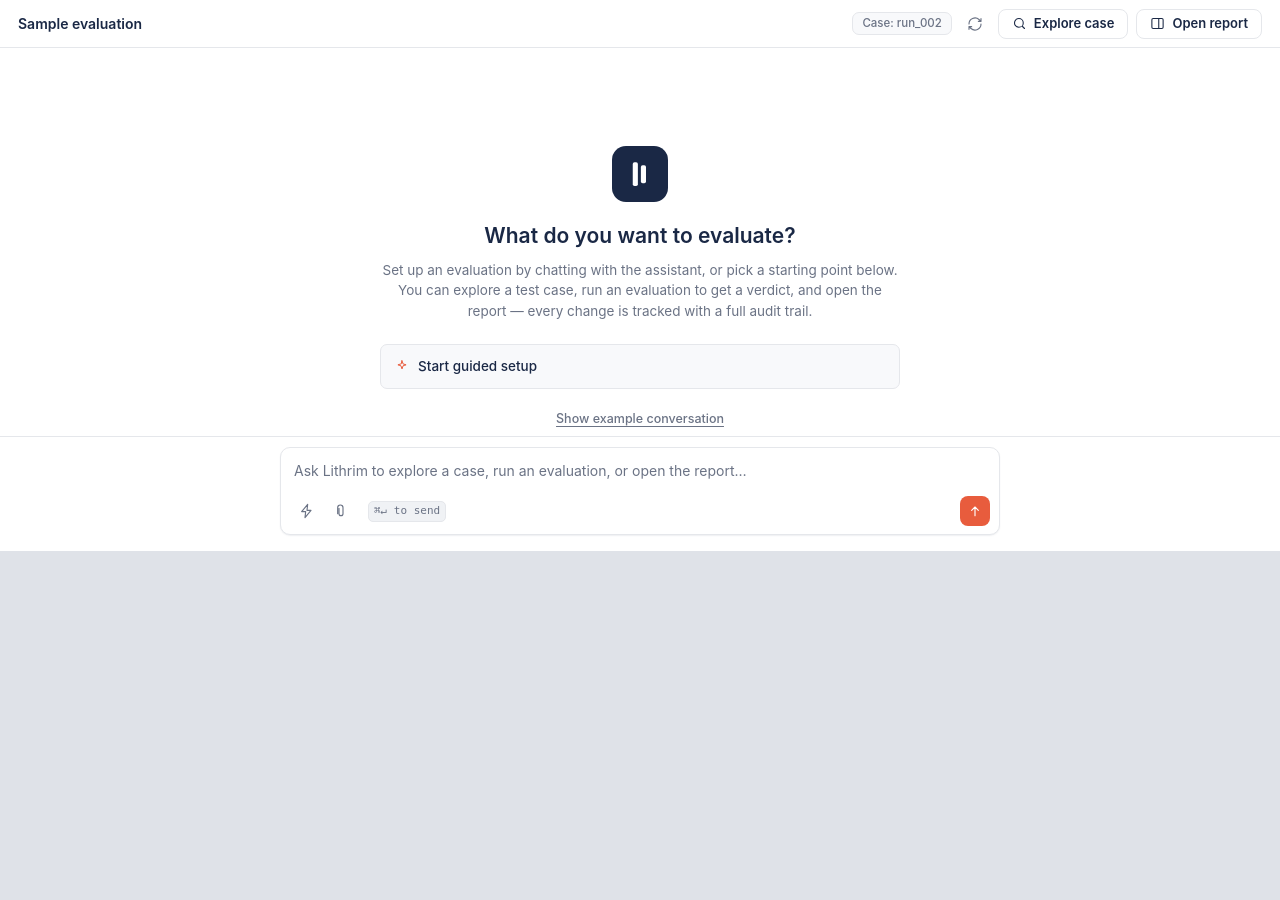
Scenario: CenterPane — CHAT-FRESH-GRADE-1: chat run-eval grades fresh + shows up › the appended chat card reflects the FRESH rec (APPROVE), not a prior/stale card
The image size is (1280, 900).
Replace the text in the text box with placeholder "Ask Lithrim" with "grade it fresh": [640, 467] box 281,448 -> 999,485
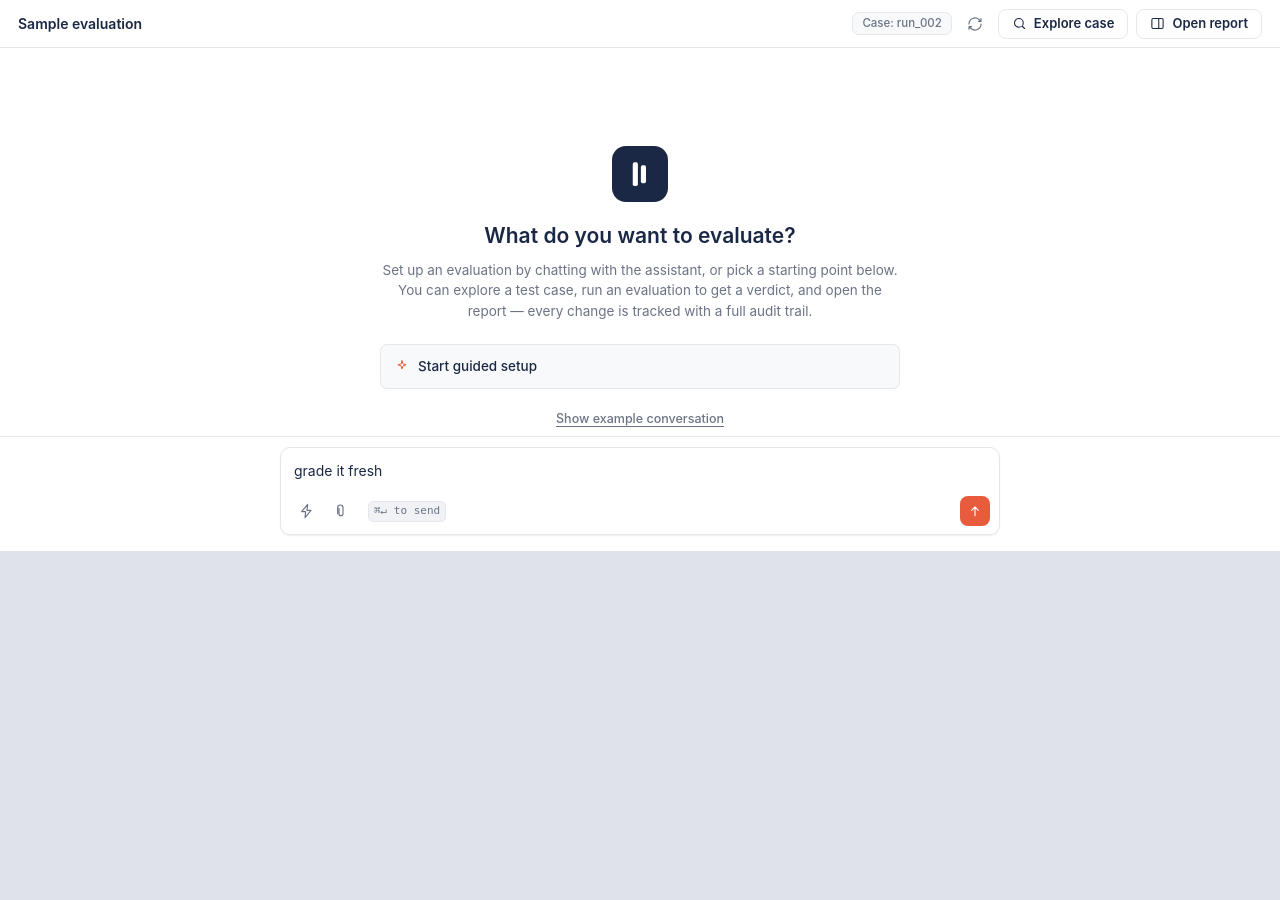
Click the button with test id "chat-send": [975, 511] box 960,496 -> 990,526
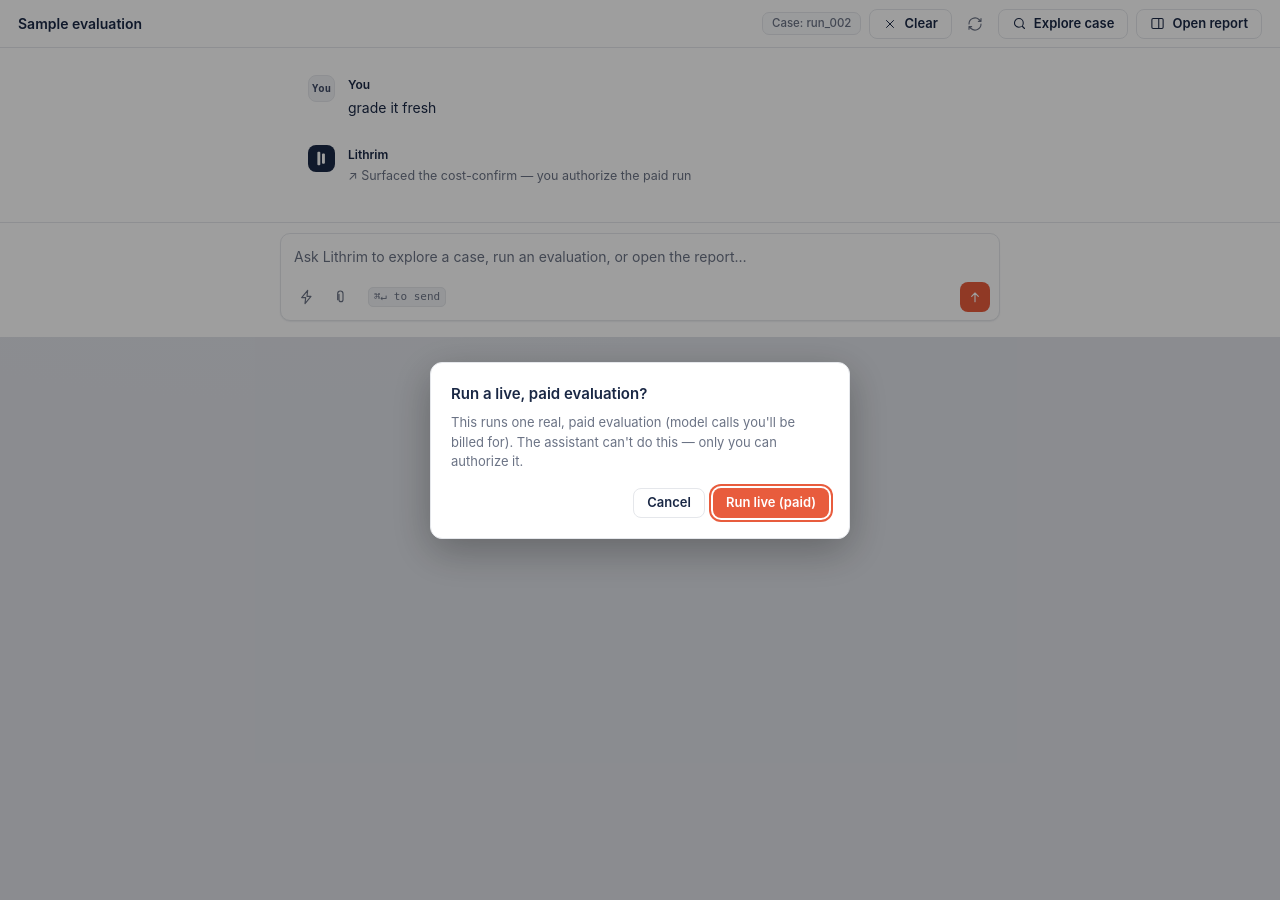
Click the button with test id "cost-confirm": [771, 502] box 713,488 -> 829,518
(page scrolled)
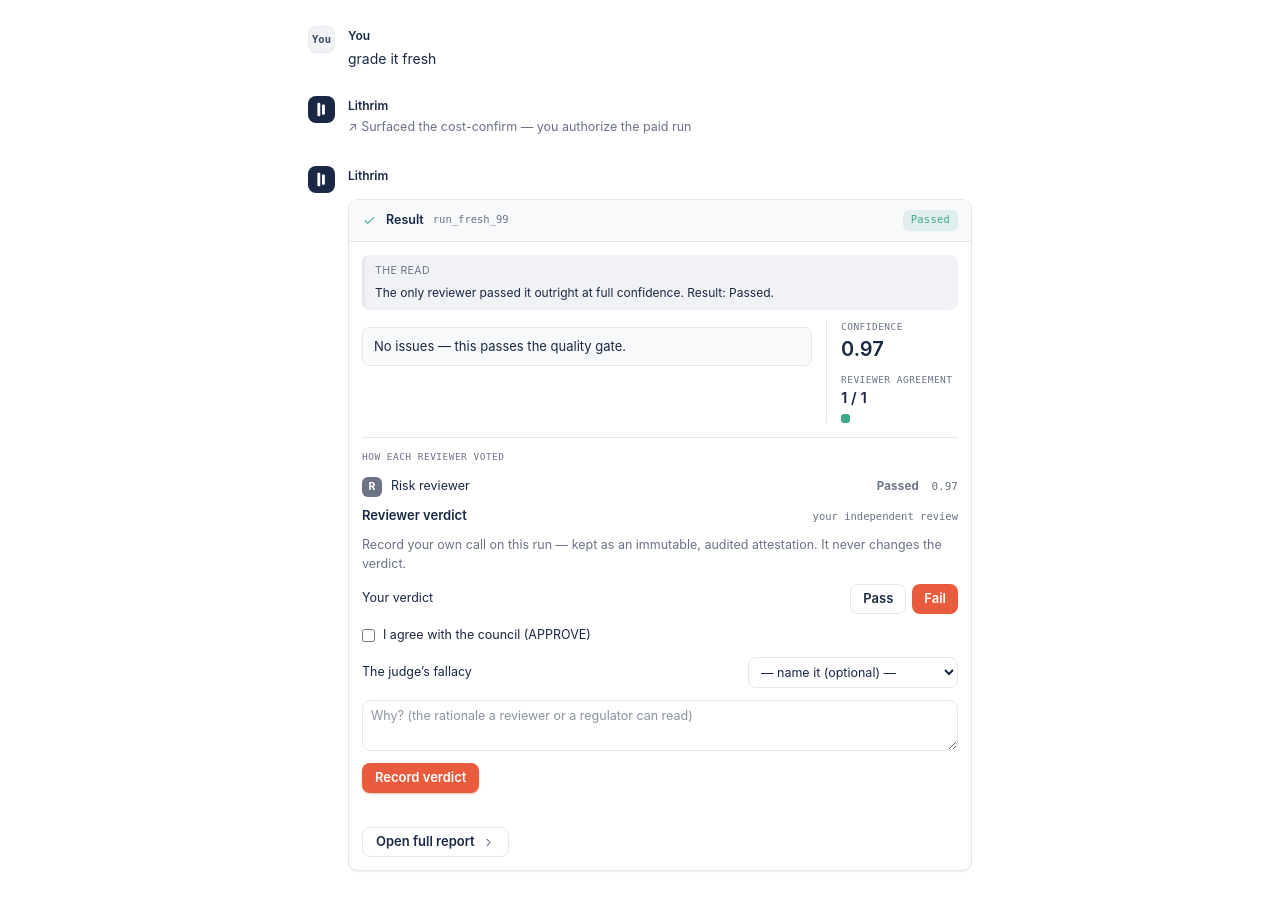
Now the text "Passed" in the row of "run_fresh_99" is shown, box 911,213 -> 950,225
Now the text "run_fresh_99" is shown, box 433,212 -> 509,228
